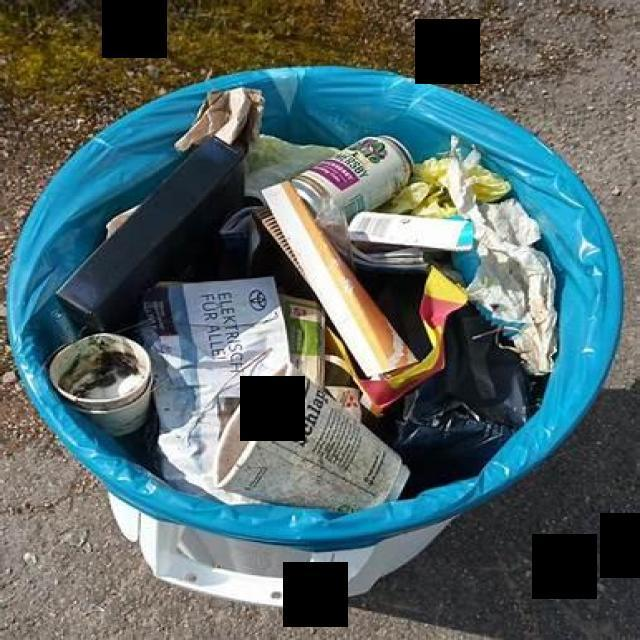Garbage: (32, 77, 563, 526)
Plastic_Bag: (395, 305, 528, 496)
can: (292, 136, 413, 224)
